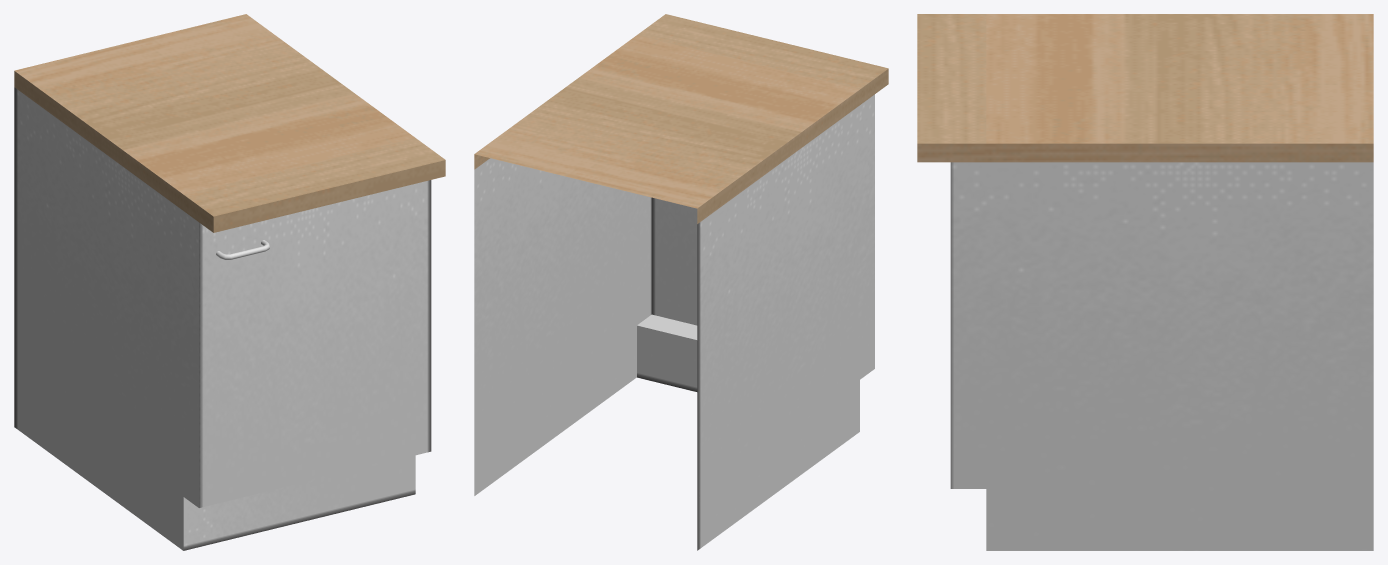
The model's file is Environment.fbx.
3 views of the same model, side by side, from view 1: azimuth 30°, elevation 25°; view 2: azimuth 150°, elevation 25°; view 3: azimuth 270°, elevation 25° (orthographic). The views are drawn at different scales.
Visible parts, largest first — view 1: Cuisine_Comptoir_Gauche; view 2: Cuisine_Comptoir_Gauche; view 3: Cuisine_Comptoir_Gauche.
Boxes of the visible parts, bbox=[...] form: Cuisine_Comptoir_Gauche: bbox=[14, 14, 445, 550]; Cuisine_Comptoir_Gauche: bbox=[474, 14, 888, 550]; Cuisine_Comptoir_Gauche: bbox=[917, 14, 1373, 550].
Size of the model in its own units: 60 by 88 by 89.27.
